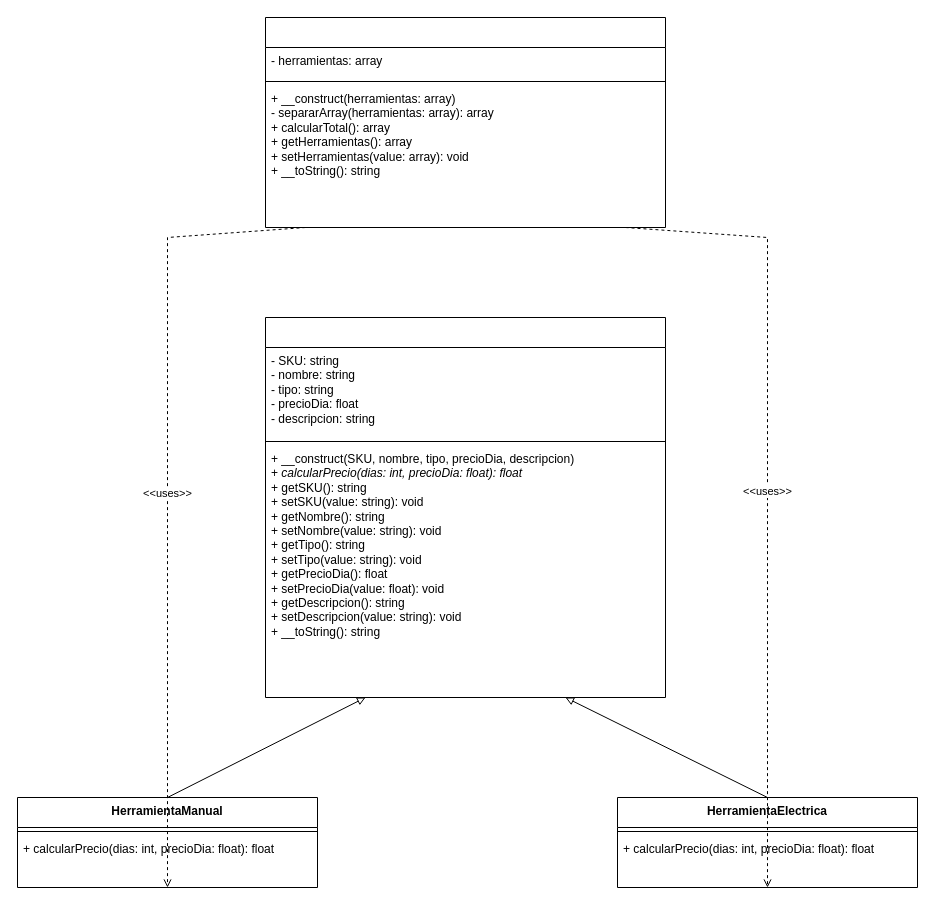
Some shapes in this 935 by 913 pixel diagram are drawn without their labels. The shapes that lost their labels are listed below. From the top down, each one's box as (x1, y1, x2, y2) in pixels, then its label:
(264, 16, 666, 228): Alquiler
(264, 316, 666, 698): Herramienta
